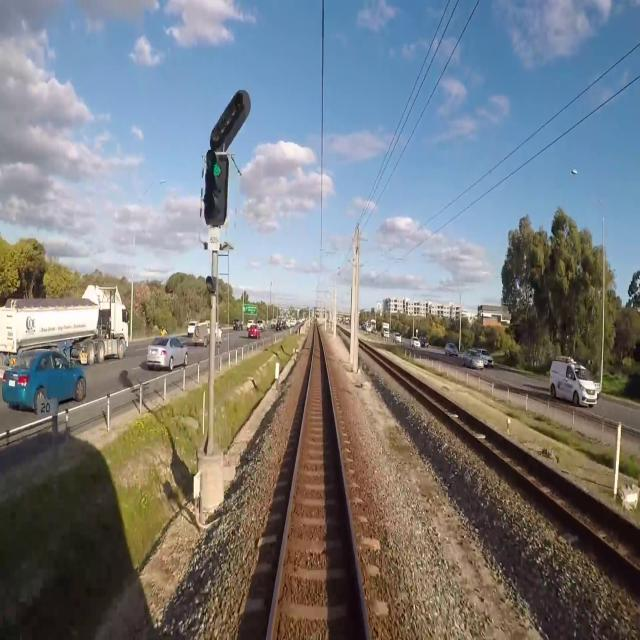rail-track: (378, 355, 640, 564), (271, 327, 365, 639)
